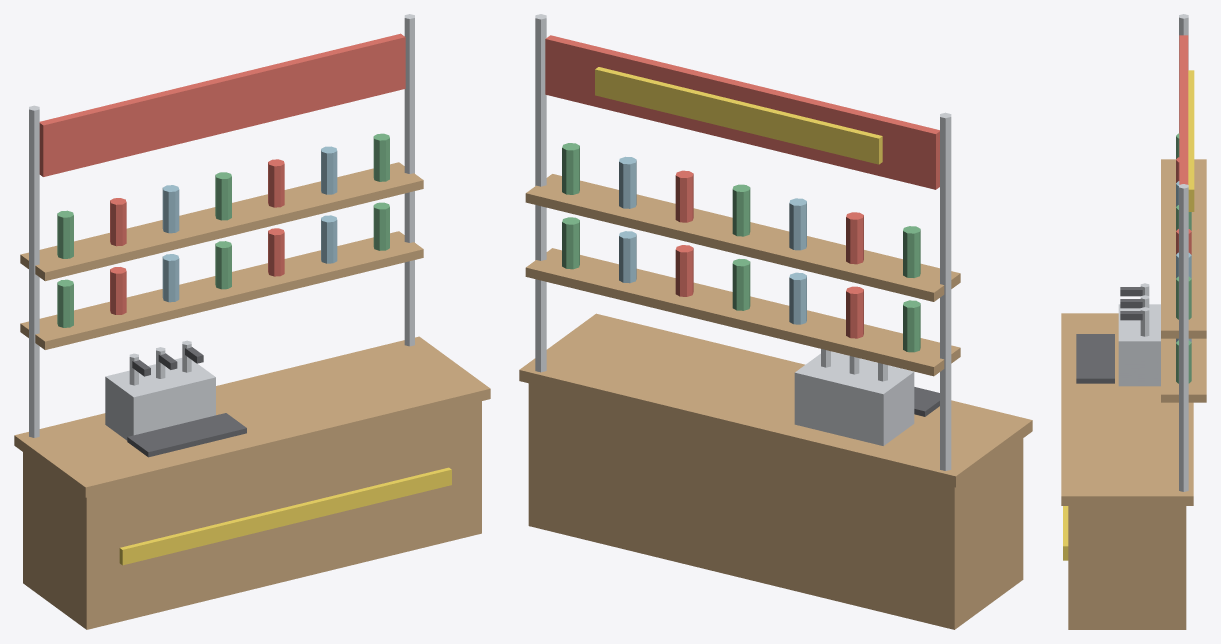
Rendered from street-food-market-and-food-trucks-bar-stall-with-taps-34a0fc7b.glb.
3 views of the same model, side by side, from view 1: azimuth 30°, elevation 25°; view 2: azimuth 150°, elevation 25°; view 3: azimuth 270°, elevation 25° (orthographic). The views are drawn at different scales.
Parts seen in each view (by area): view 1: bar-stall-with-taps-timber, bar-stall-with-taps-scarlet, bar-stall-with-taps-steel, bar-stall-with-taps-canary, bar-stall-with-taps-leaf, bar-stall-with-taps-charcoal, bar-stall-with-taps-glass; view 2: bar-stall-with-taps-timber, bar-stall-with-taps-scarlet, bar-stall-with-taps-steel, bar-stall-with-taps-canary, bar-stall-with-taps-leaf, bar-stall-with-taps-glass; view 3: bar-stall-with-taps-timber, bar-stall-with-taps-steel, bar-stall-with-taps-charcoal, bar-stall-with-taps-scarlet, bar-stall-with-taps-canary, bar-stall-with-taps-leaf, bar-stall-with-taps-glass.
Boxes of the visible parts, left/top/right/bottom form: bar-stall-with-taps-timber: left=14, top=162, right=490, bottom=629; bar-stall-with-taps-scarlet: left=39, top=33, right=405, bottom=314; bar-stall-with-taps-steel: left=29, top=14, right=414, bottom=440; bar-stall-with-taps-canary: left=119, top=467, right=451, bottom=565; bar-stall-with-taps-leaf: left=57, top=133, right=389, bottom=327; bar-stall-with-taps-charcoal: left=127, top=347, right=246, bottom=457; bar-stall-with-taps-glass: left=162, top=146, right=337, bottom=302; bar-stall-with-taps-timber: left=519, top=174, right=1032, bottom=629; bar-stall-with-taps-scarlet: left=545, top=35, right=939, bottom=338; bar-stall-with-taps-steel: left=535, top=14, right=951, bottom=470; bar-stall-with-taps-canary: left=595, top=67, right=882, bottom=164; bar-stall-with-taps-leaf: left=562, top=143, right=920, bottom=352; bar-stall-with-taps-glass: left=619, top=156, right=806, bottom=324; bar-stall-with-taps-timber: left=1061, top=159, right=1206, bottom=629; bar-stall-with-taps-steel: left=1118, top=14, right=1188, bottom=491; bar-stall-with-taps-charcoal: left=1076, top=287, right=1142, bottom=383; bar-stall-with-taps-scarlet: left=1176, top=35, right=1191, bottom=254; bar-stall-with-taps-canary: left=1063, top=70, right=1194, bottom=560; bar-stall-with-taps-leaf: left=1176, top=133, right=1191, bottom=383; bar-stall-with-taps-glass: left=1176, top=181, right=1191, bottom=342.
Bounding box in the file's own units: 2.46 × 2.75 × 0.825.
